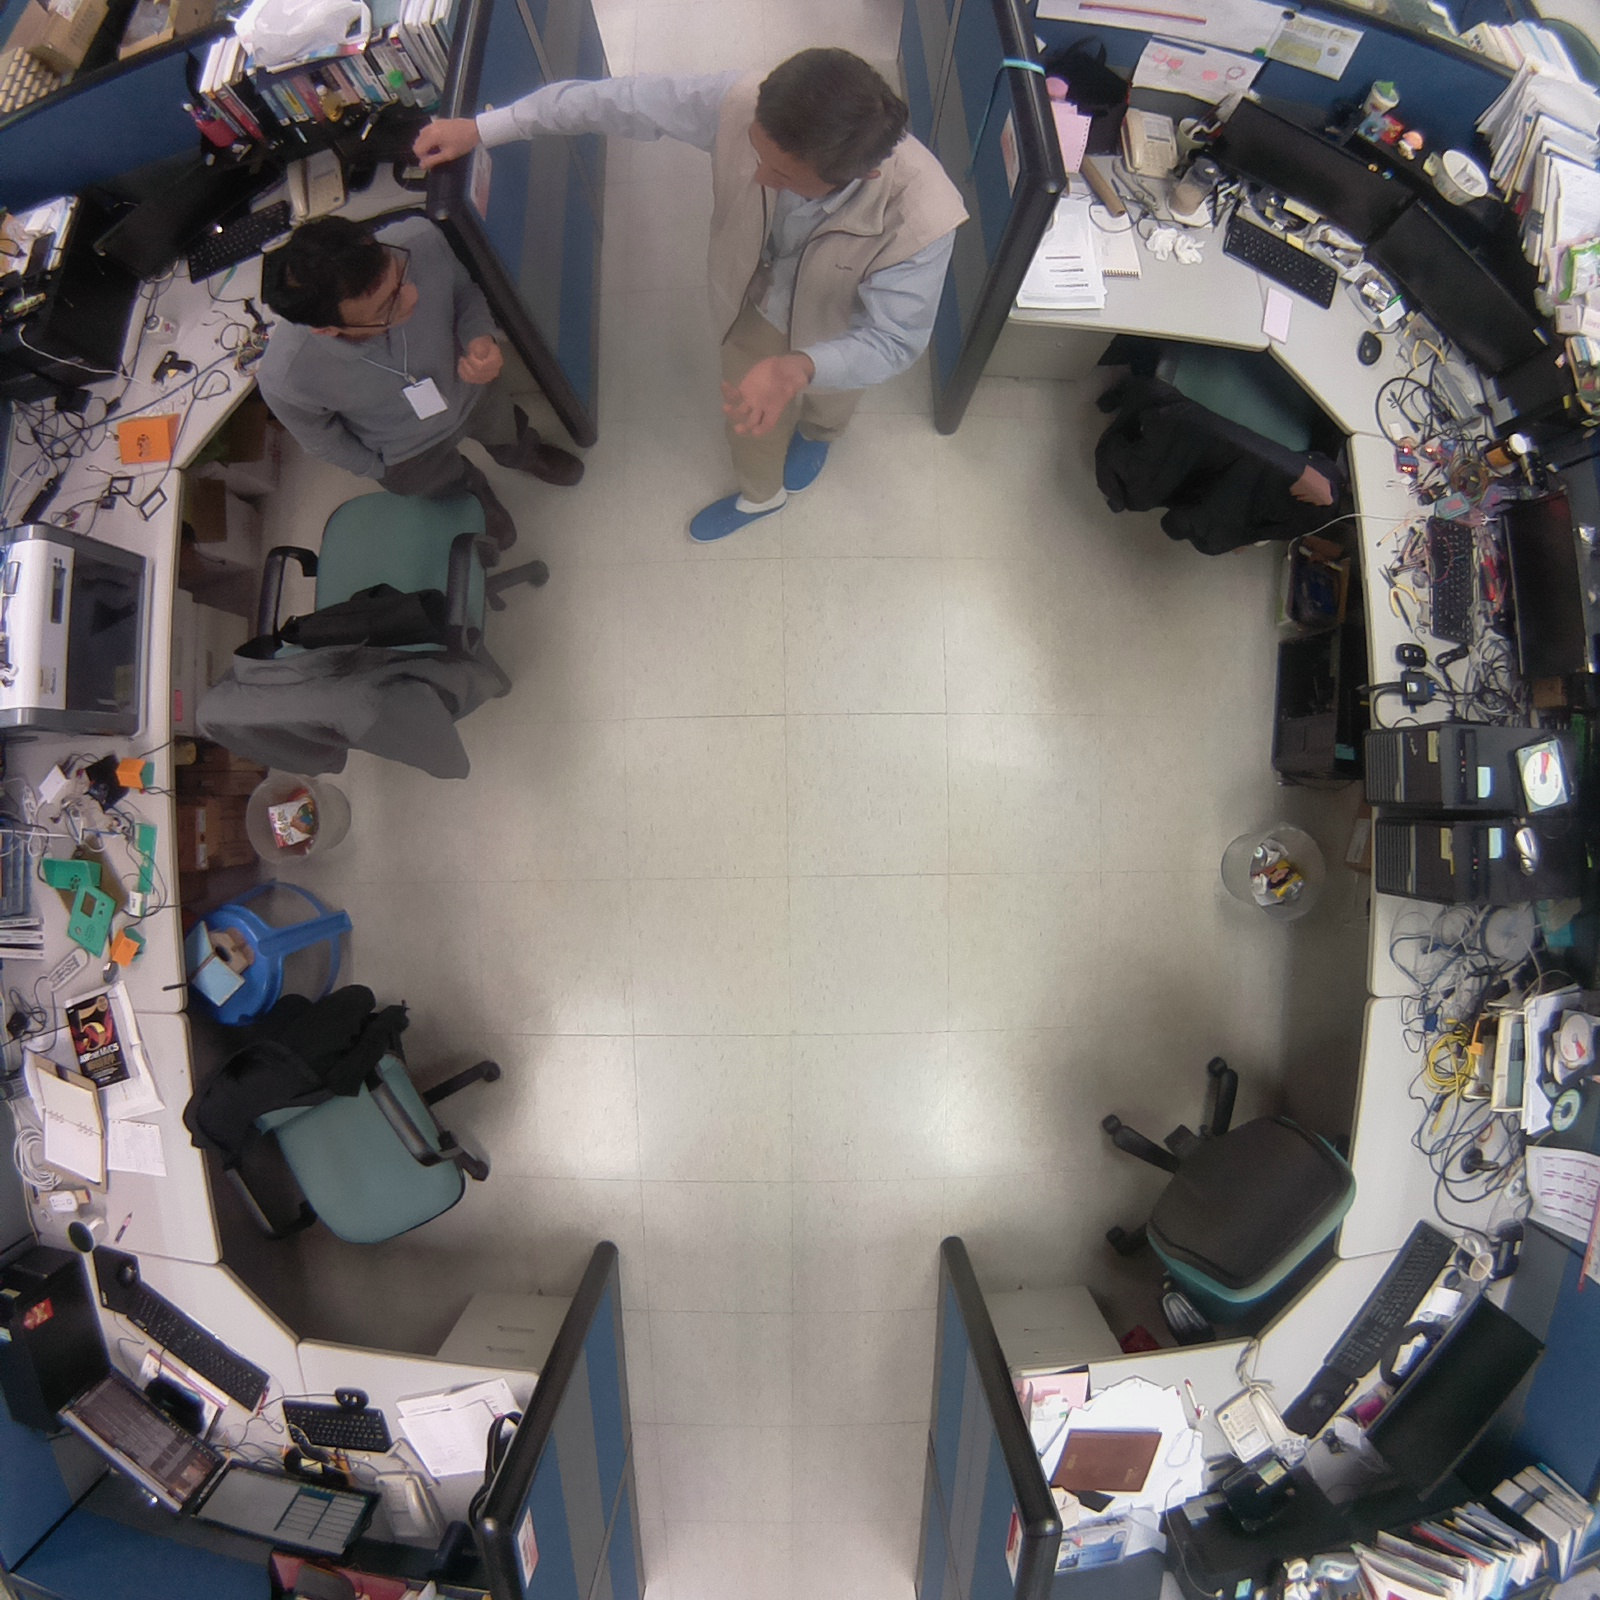chair: (178, 478, 570, 796), (170, 960, 532, 1270), (1060, 1037, 1365, 1368), (1081, 319, 1365, 573)
head: (742, 34, 917, 219), (253, 212, 425, 351)
sitting: (239, 207, 587, 560)
standing: (674, 34, 968, 560)
